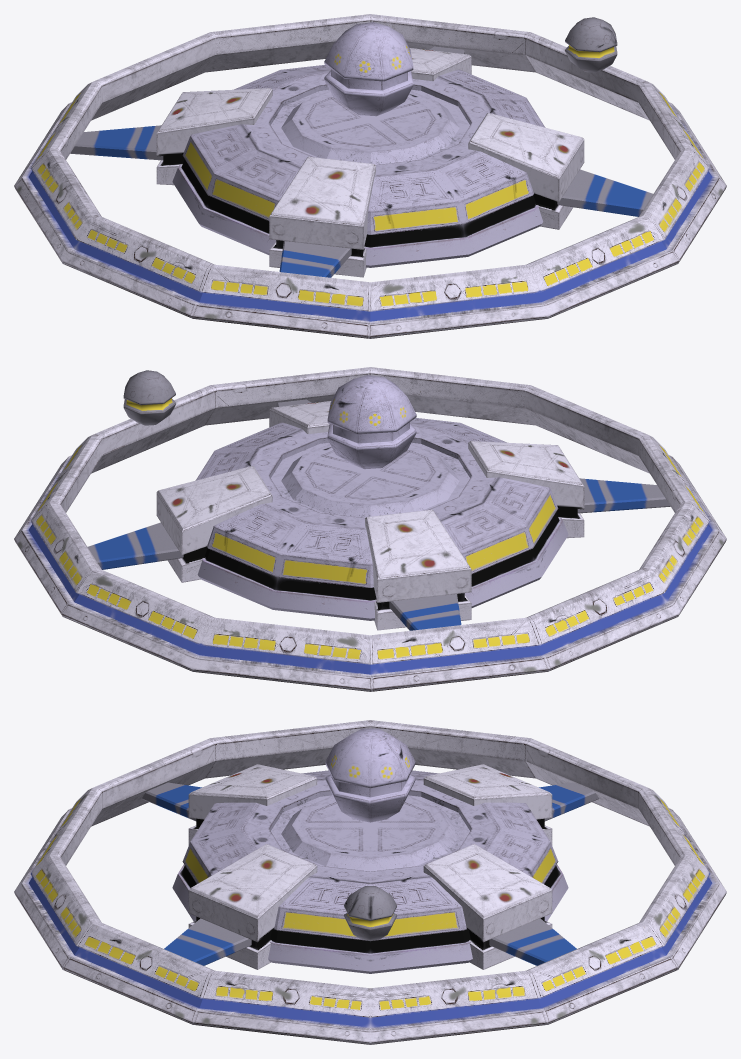
Rendered from Ship_Player.fbx.
3 views of the same model, one above another, from view 1: azimuth 30°, elevation 25°; view 2: azimuth 150°, elevation 25°; view 3: azimuth 270°, elevation 25° (orthographic).
Visible parts, largest first — view 1: Anillo, Centro, Almacen, Puente, Cabina, Centinela; view 2: Anillo, Centro, Almacen, Puente, Cabina, Centinela; view 3: Anillo, Centro, Almacen, Puente, Cabina, Centinela.
Part boxes in pixels (box(x1,y1,x2,y2)): Anillo: box(14, 14, 726, 338); Centro: box(172, 65, 545, 267); Almacen: box(156, 48, 584, 277); Puente: box(70, 46, 653, 277); Cabina: box(324, 22, 413, 116); Centinela: box(565, 17, 617, 72); Anillo: box(14, 367, 726, 691); Centro: box(195, 418, 568, 620); Almacen: box(156, 401, 584, 630); Puente: box(87, 399, 670, 630); Cabina: box(327, 375, 416, 469); Centinela: box(123, 370, 175, 425); Anillo: box(14, 720, 726, 1044); Centro: box(172, 770, 568, 973); Almacen: box(188, 764, 552, 969); Puente: box(142, 782, 598, 965); Cabina: box(325, 728, 415, 822); Centinela: box(344, 886, 396, 940).
Size of the model in its own units: 8 by 2.07 by 8.
